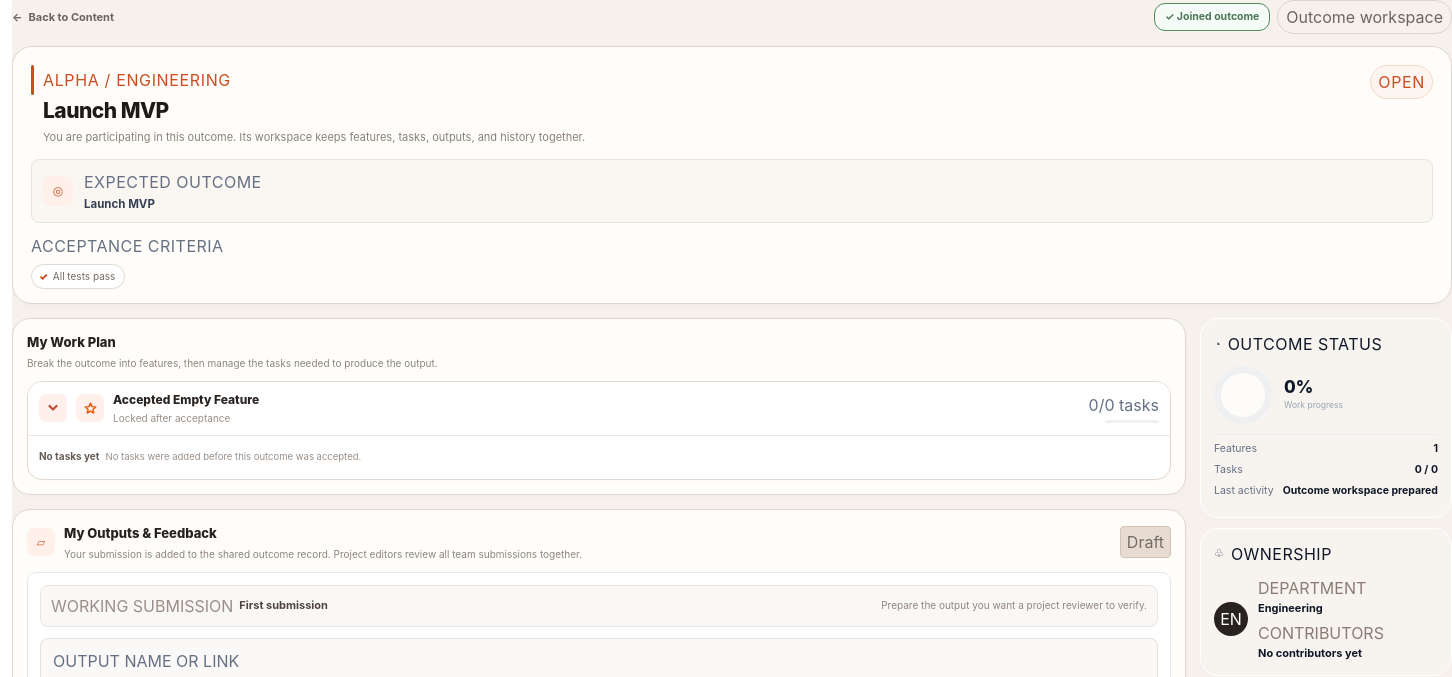
Outcome Workspace - Empty State › keeps a zero-task feature informative after acceptance without exposing Add task
The width and height of the screenshot is (1452, 677).
Check: the heading "Accepted Empty Feature" is shown, box top-left (113, 392), bottom-right (259, 407)
Check: the text "No tasks yet" is shown, box top-left (39, 449), bottom-right (100, 463)
Click the button named "Collapse Accepted Empty Feature".
click(53, 408)  # box top-left (39, 394), bottom-right (67, 422)
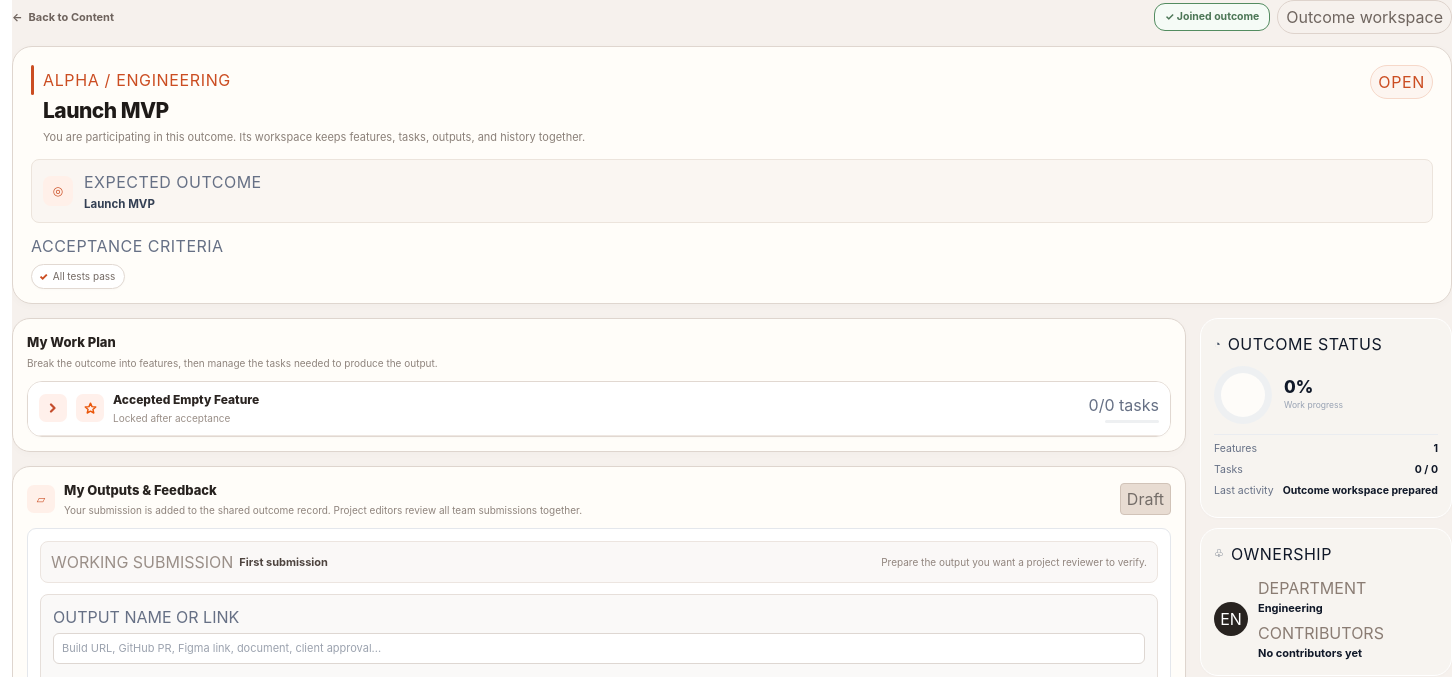
Check: the text "No tasks yet" is gone
Click the button named "Expand Accepted Empty Feature".
click(53, 408)  # box top-left (39, 394), bottom-right (67, 422)
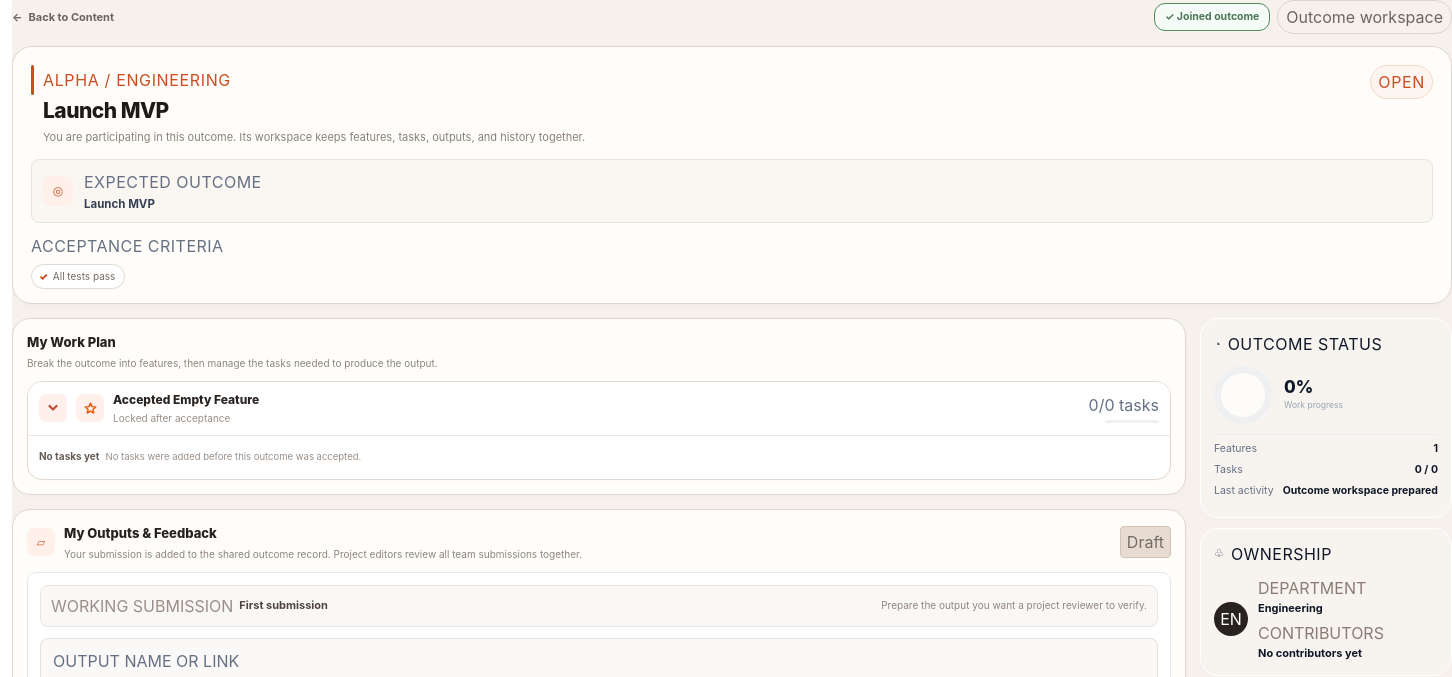
Check: the text "No tasks yet" is shown, box top-left (39, 449), bottom-right (100, 463)
